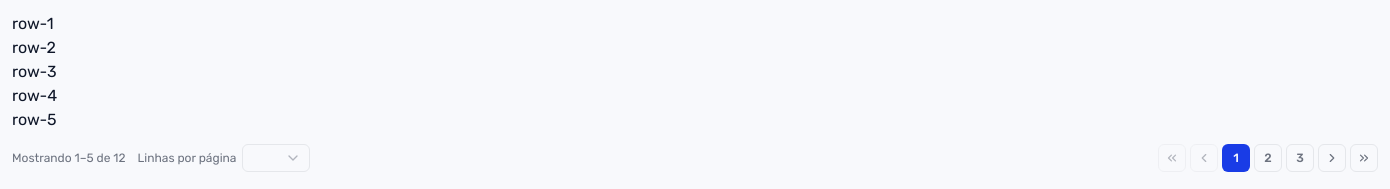
Scenario: DataTablePagination › jumps straight to a numbered page
Click the button named "Ir para a página 3": (1300, 158) [1286, 144, 1314, 172]
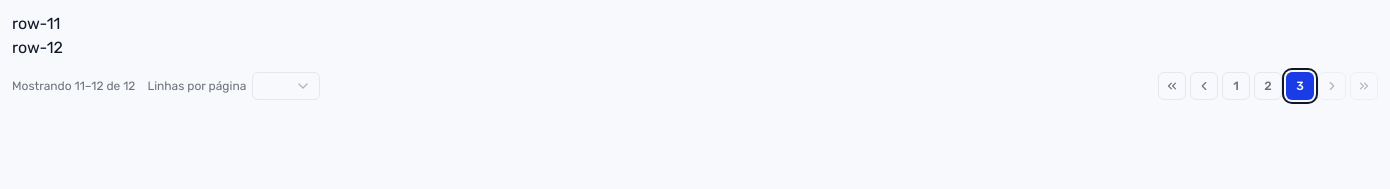
Now the text "Mostrando 11–12 de 12" is shown, box [12, 78, 135, 94]
